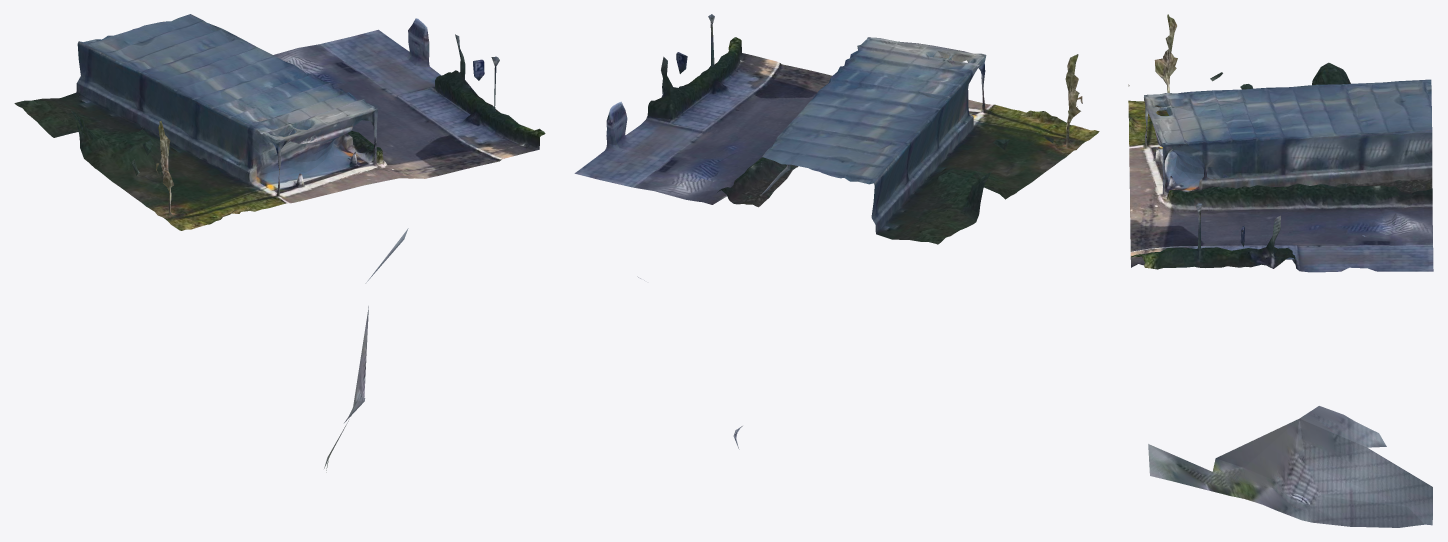
The model's file is Tile_+006_+007_L21_000330t4.glb.
3 views of the same model, side by side, from view 1: azimuth 30°, elevation 25°; view 2: azimuth 150°, elevation 25°; view 3: azimuth 270°, elevation 25° (orthographic). The views are drawn at different scales.
Visible parts, largest first — view 1: rtc; view 2: rtc; view 3: rtc.
Boxes of the visible parts, x1,y1,x2,y2 form: rtc: (14,14,545,472); rtc: (574,14,1099,449); rtc: (1128,14,1433,527).
Bounding box in the file's own units: 17.85 × 20.17 × 14.01.
Materials: 1 (1 with a texture image).
